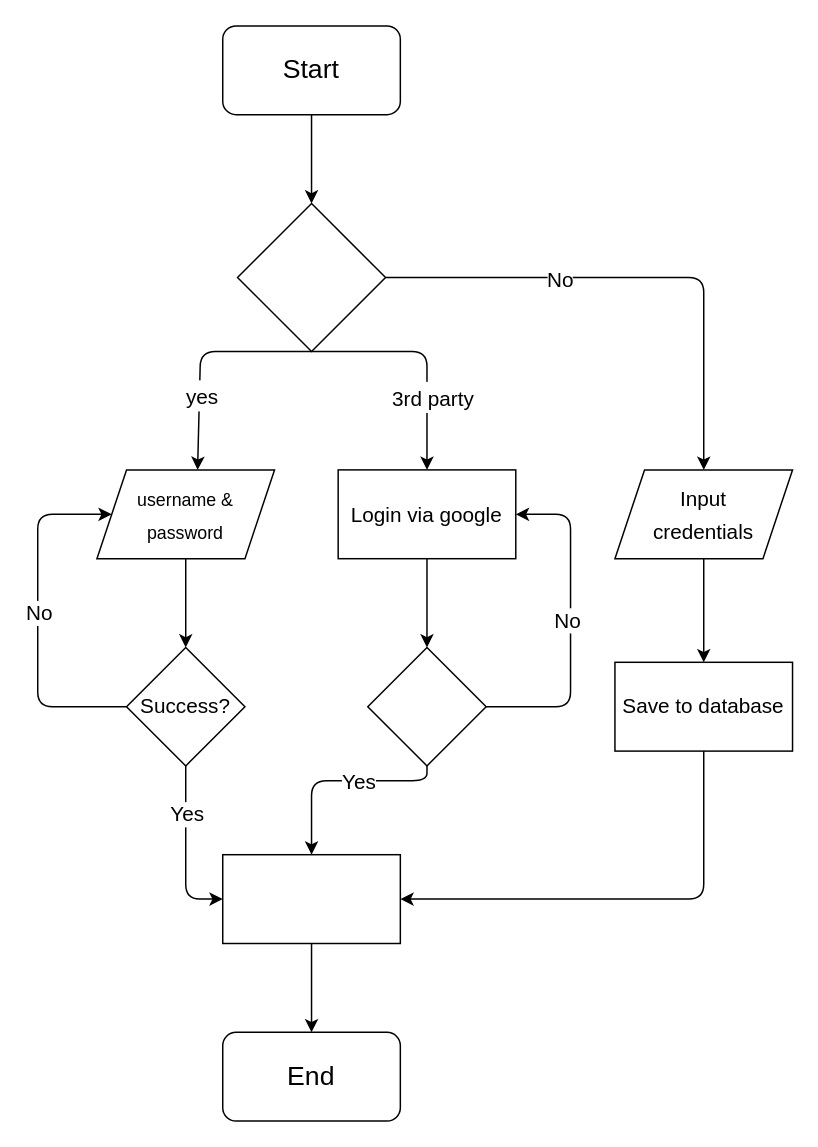
The diagram is 818 pixels wide and 1147 high, and some of its shapes have lost their labels. Here are the shapes that lost their labels. From the top down, the centre of each, then its label:
(x=311, y=277): Have an account?
(x=426, y=706): Suiccess?
(x=310, y=898): Countinue
